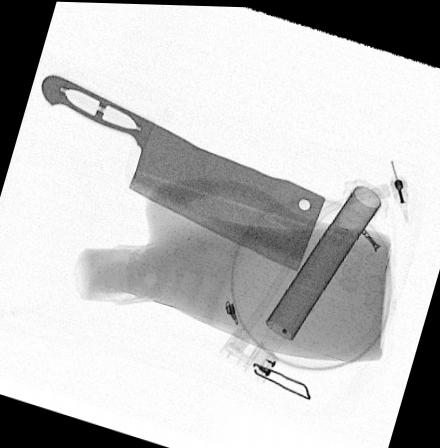Knife: (40, 72, 329, 271)
